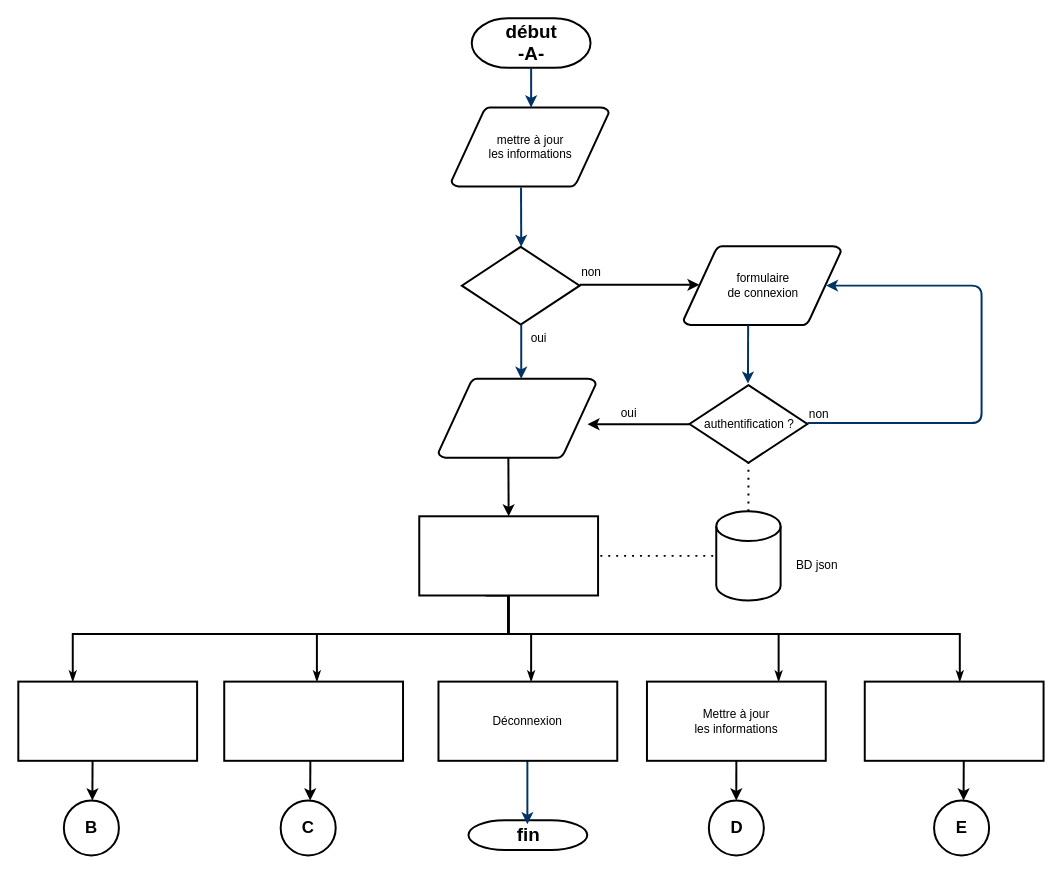
Some shapes in this 1061 by 873 pixel diagram are drawn without their labels. Here are the shapes that lost their labels. From the top down, the centre of each, then its label:
[520,285]: Ouverture de session ?
[516,417]: Admin page - A -
[508,555]: lecture une page FAQ
[107,720]: Changer le mot de passe
[313,720]: Suppression de l'information
[953,720]: Insérer de nouvelles informations
